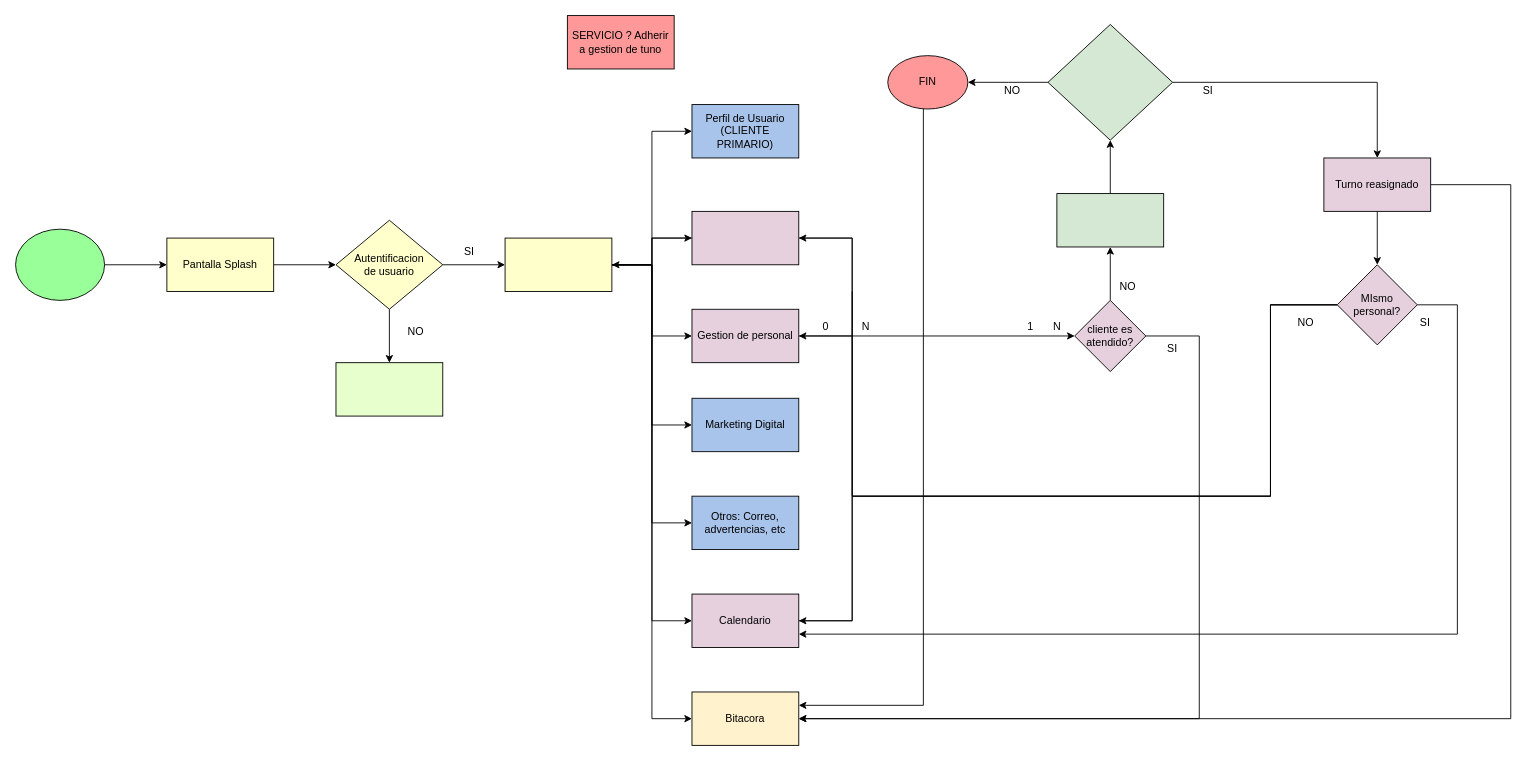
Image size: 1533x761. Some labels were removed from this diagram. The shapes that lost their labels are listed below. From the top down, each one's centre as x and y in pixels, then its label:
At (1110,82): "Reasignar turno?".
At (745,237): "Gestion de turnos".
At (1110,220): "Reasignar turno".
At (60,264): "Inicio".
At (558,264): "Pantalla de inicio".
At (389,389): "Registrarse/inicio de sesion".
